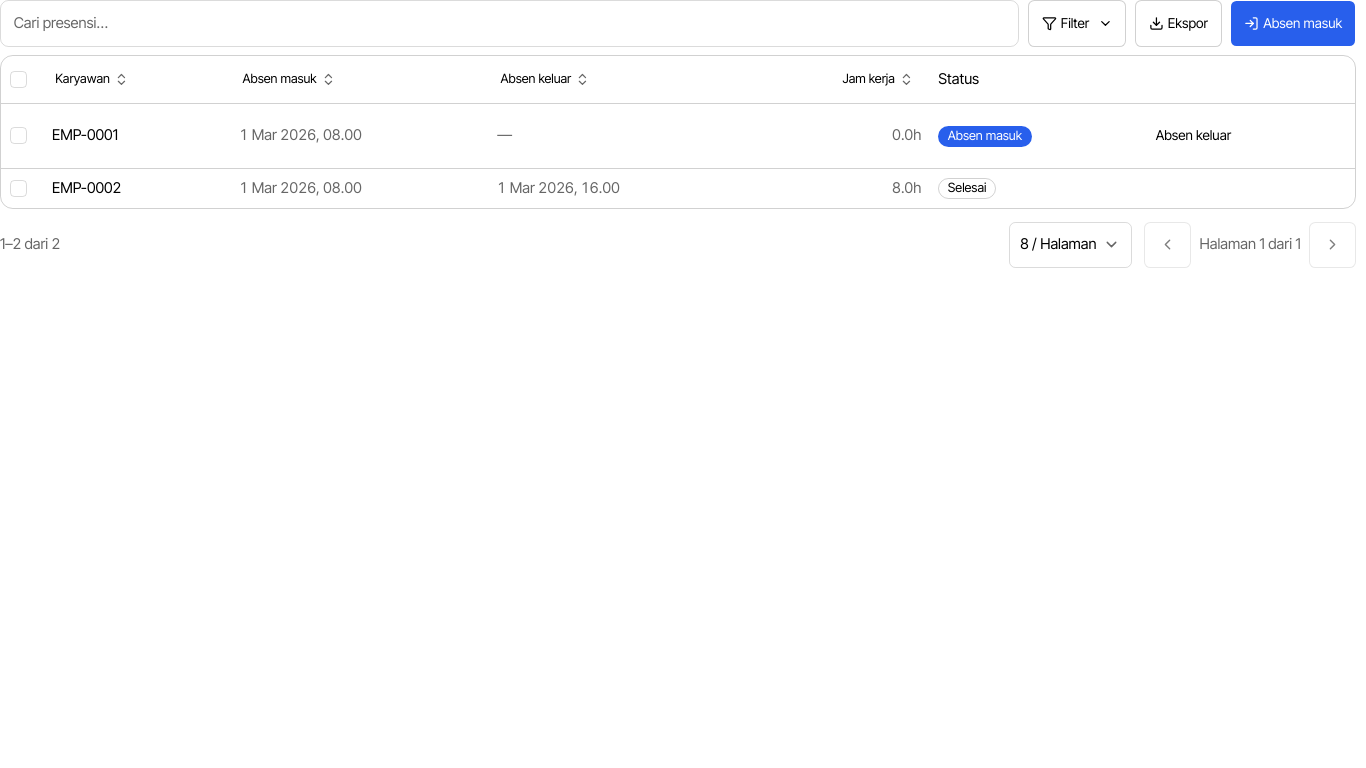
Test: AttendanceSection › opens the check-in dialog from the add button
Check: the text "EMP-0001" is shown, box top-left (52, 126), bottom-right (118, 144)
Click the 1st button "Absen masuk" at {"x": 1293, "y": 23}, box top-left (1230, 0), bottom-right (1356, 47)
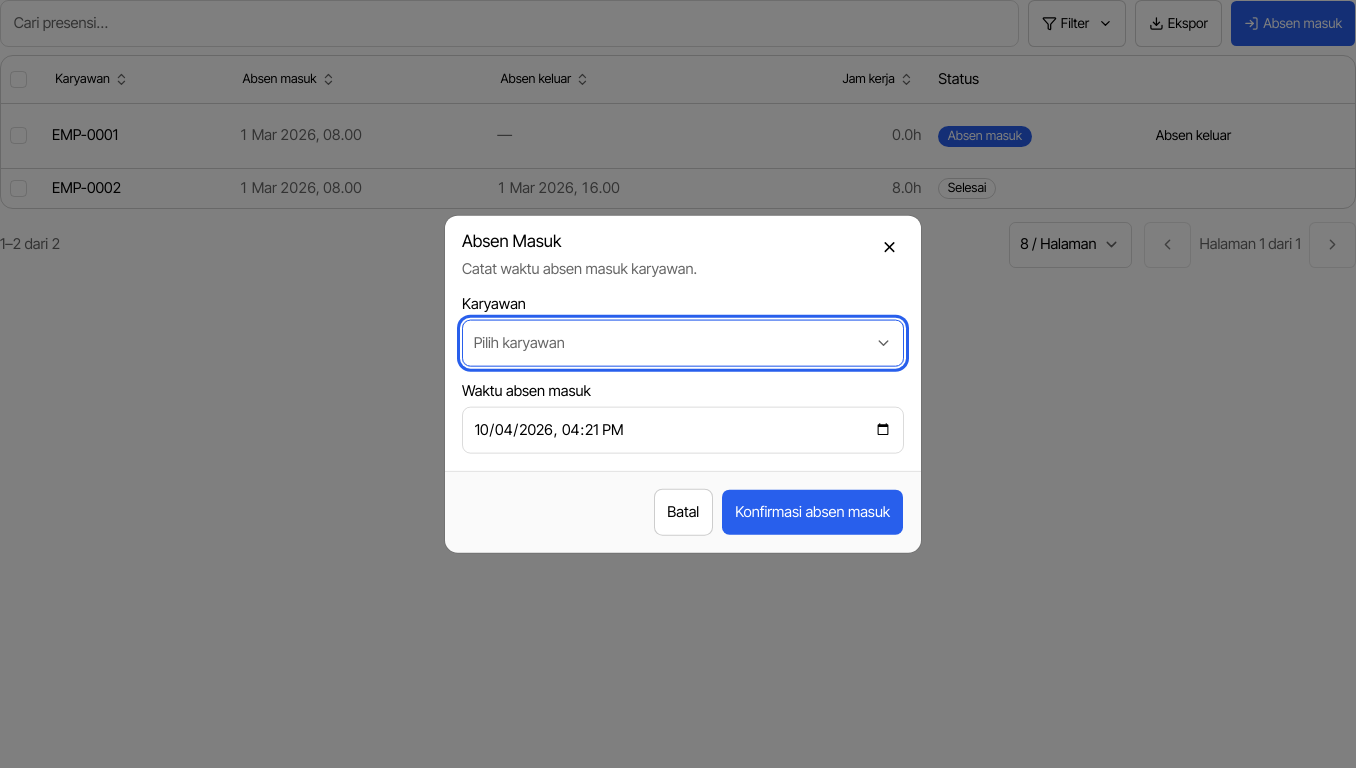
Check: the dialog is shown, box top-left (445, 216), bottom-right (921, 552)
